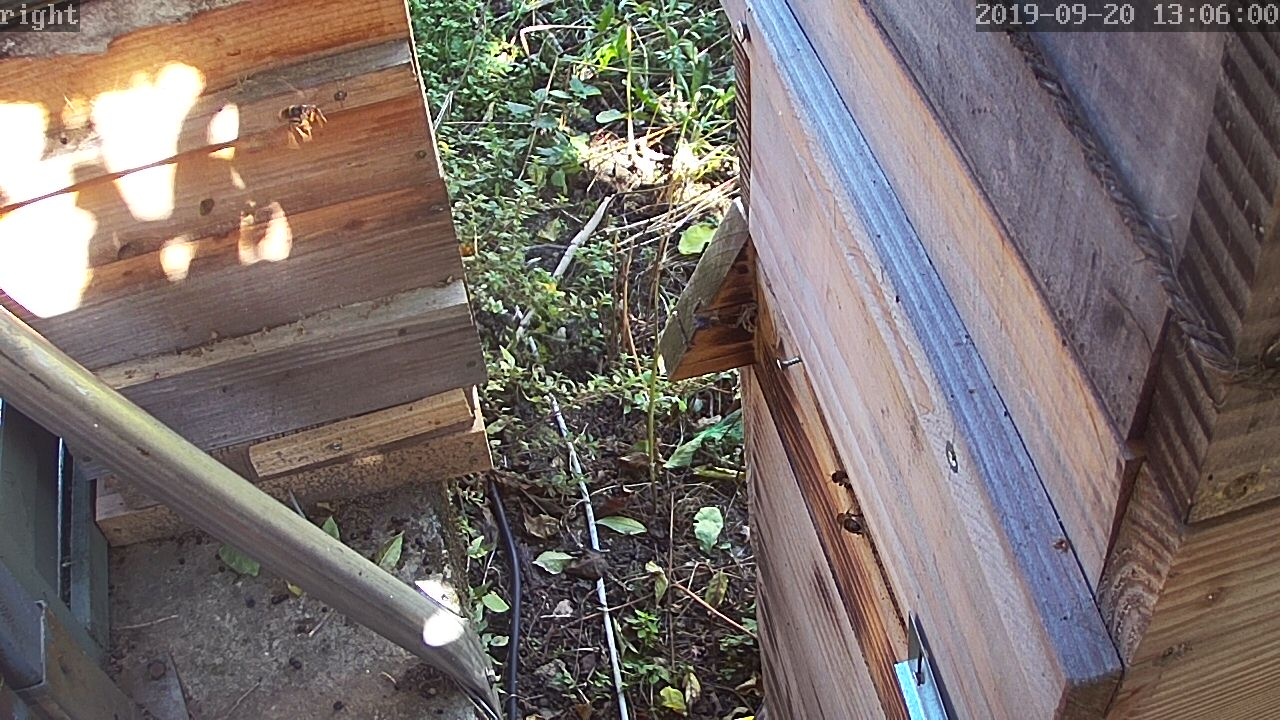bee: (830, 506, 867, 538), (826, 461, 858, 497)
hornet: (273, 96, 334, 139)
